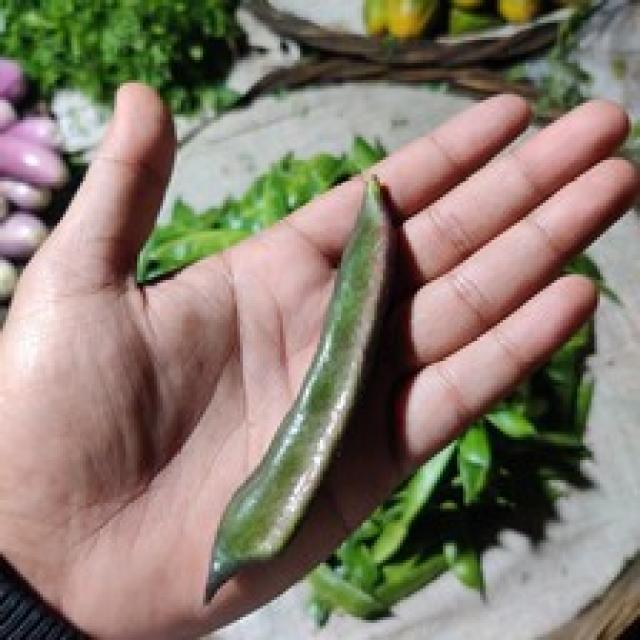Bean: (203, 171, 394, 603)
